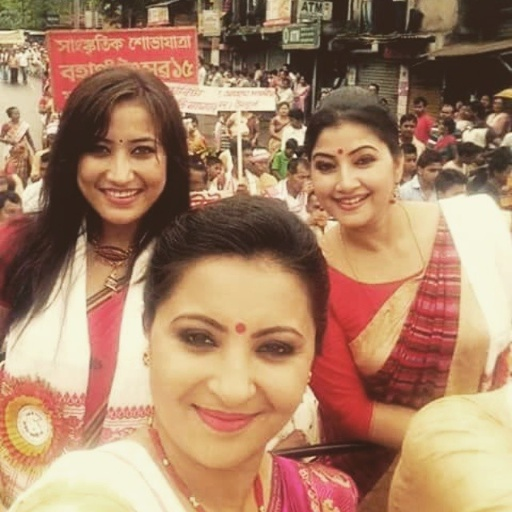hand: (307, 209, 327, 225), (233, 176, 251, 193), (300, 176, 315, 193)
